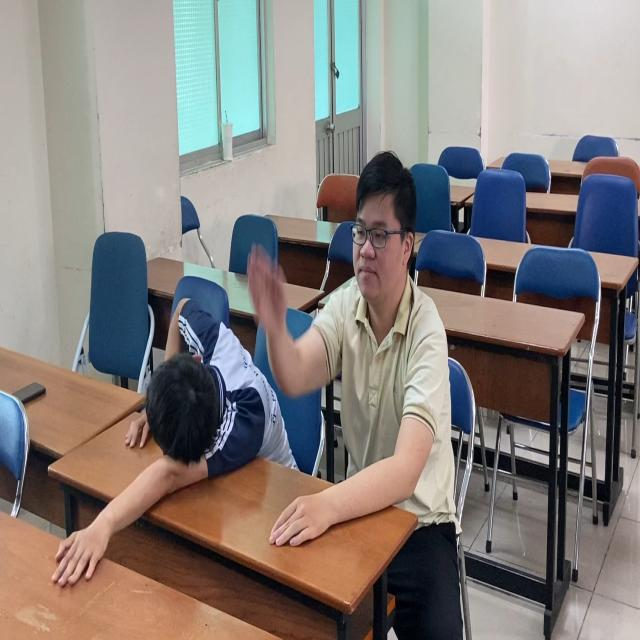sleep: (121, 291, 282, 508)
